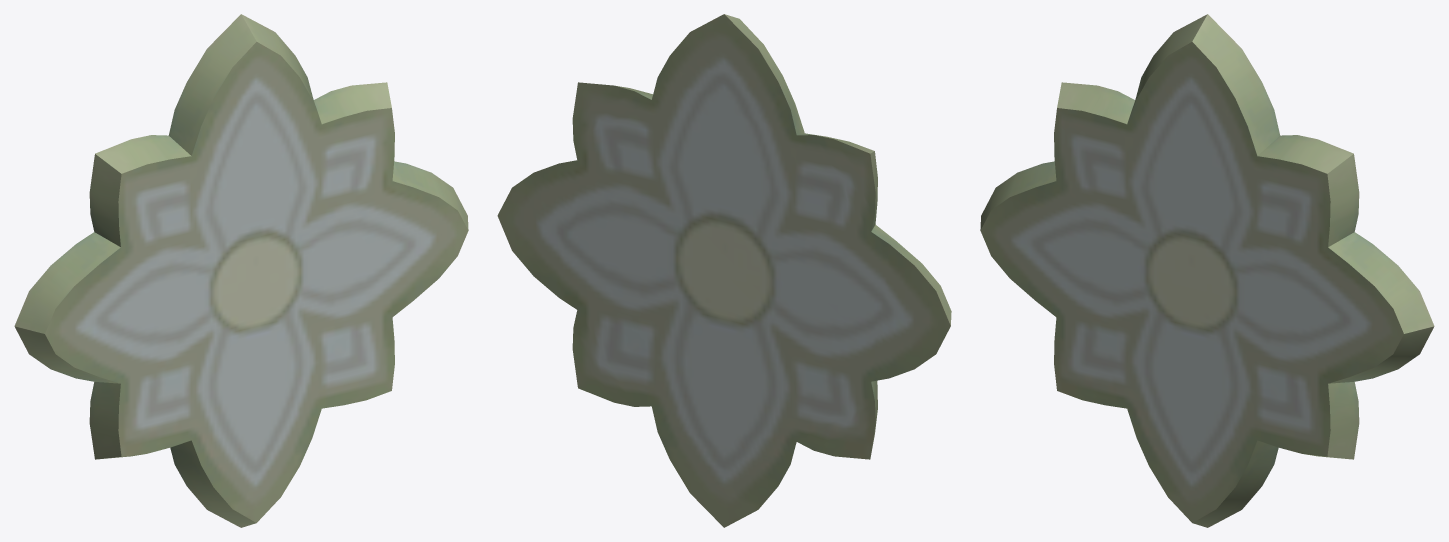
File: Homeworld_Ani_Interior_Md_Walldecoration_Prop_MechanicalDrawing_01_10_Vo.fbx
3 views of the same model, side by side, from view 1: azimuth 30°, elevation 25°; view 2: azimuth 150°, elevation 25°; view 3: azimuth 330°, elevation 25° (orthographic).
Visible parts, largest first — view 1: Homeworld_Ani_Interior_Md_Walldecoration_Prop_MechanicalDraw; view 2: Homeworld_Ani_Interior_Md_Walldecoration_Prop_MechanicalDraw; view 3: Homeworld_Ani_Interior_Md_Walldecoration_Prop_MechanicalDraw.
Boxes of the visible parts, x1,y1,x2,y2 form: Homeworld_Ani_Interior_Md_Walldecoration_Prop_MechanicalDraw: [14, 14, 468, 527]; Homeworld_Ani_Interior_Md_Walldecoration_Prop_MechanicalDraw: [497, 14, 951, 527]; Homeworld_Ani_Interior_Md_Walldecoration_Prop_MechanicalDraw: [980, 14, 1434, 527].
Bounding box in the file's own units: 0.1174 × 0.1272 × 0.00699.
